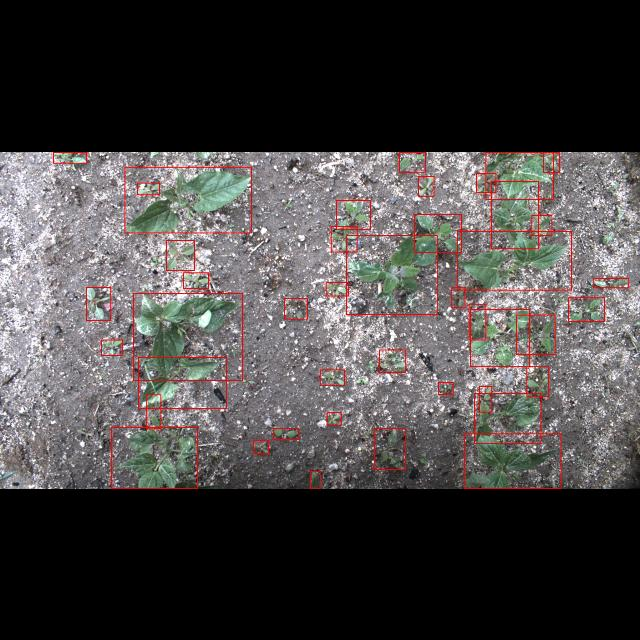crop: (134, 292, 242, 380), (125, 166, 252, 232), (456, 230, 572, 290), (464, 434, 562, 488), (112, 428, 198, 488), (138, 357, 226, 408), (470, 309, 530, 366), (475, 393, 541, 443), (492, 180, 538, 248), (486, 152, 552, 198)
weed: (347, 234, 438, 314), (414, 214, 462, 252), (516, 314, 556, 354), (374, 428, 406, 469), (336, 200, 370, 228), (568, 297, 604, 321), (166, 240, 194, 270), (86, 286, 110, 320), (527, 366, 549, 396), (468, 303, 486, 339), (331, 226, 357, 250), (380, 350, 406, 372), (399, 151, 425, 171), (284, 298, 308, 318), (147, 394, 161, 428), (476, 172, 496, 192), (532, 215, 552, 235), (184, 272, 208, 288), (53, 152, 87, 162), (594, 277, 628, 287), (320, 370, 344, 384), (418, 175, 434, 195), (544, 151, 560, 171), (480, 386, 492, 412), (326, 281, 348, 295), (101, 340, 122, 354), (138, 182, 160, 194), (274, 428, 298, 439), (452, 287, 464, 307), (254, 440, 268, 454), (438, 382, 454, 394), (310, 470, 320, 488), (327, 412, 341, 424)
